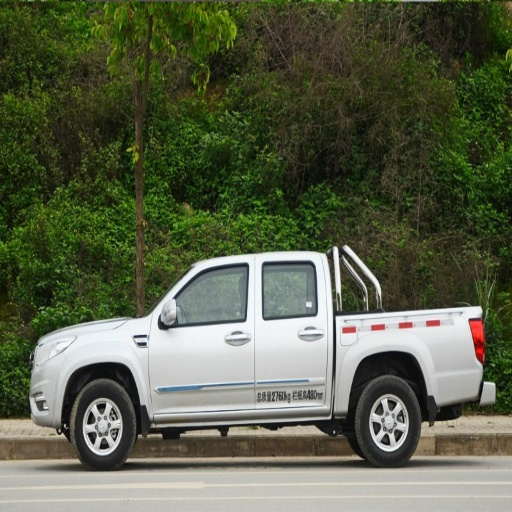back_left_door: (254, 258, 328, 405)
front_left_door: (151, 260, 260, 412)
trunk: (328, 311, 479, 414)
